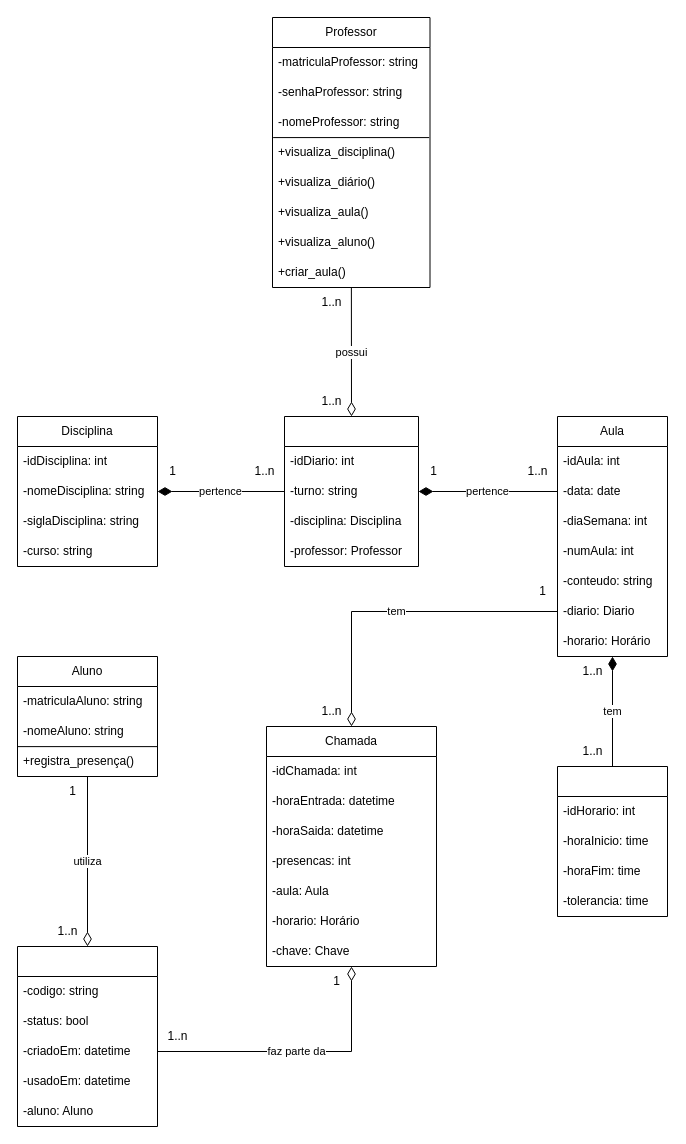
The diagram is 686 pixels wide and 1144 high, and some of its shapes have lost their labels. The box of each missing label's shape, as (x1, y1, x2, y2) in pixels:
Chave: (16, 946, 158, 1126)
Diário: (284, 416, 418, 566)
Horário: (556, 766, 668, 916)
